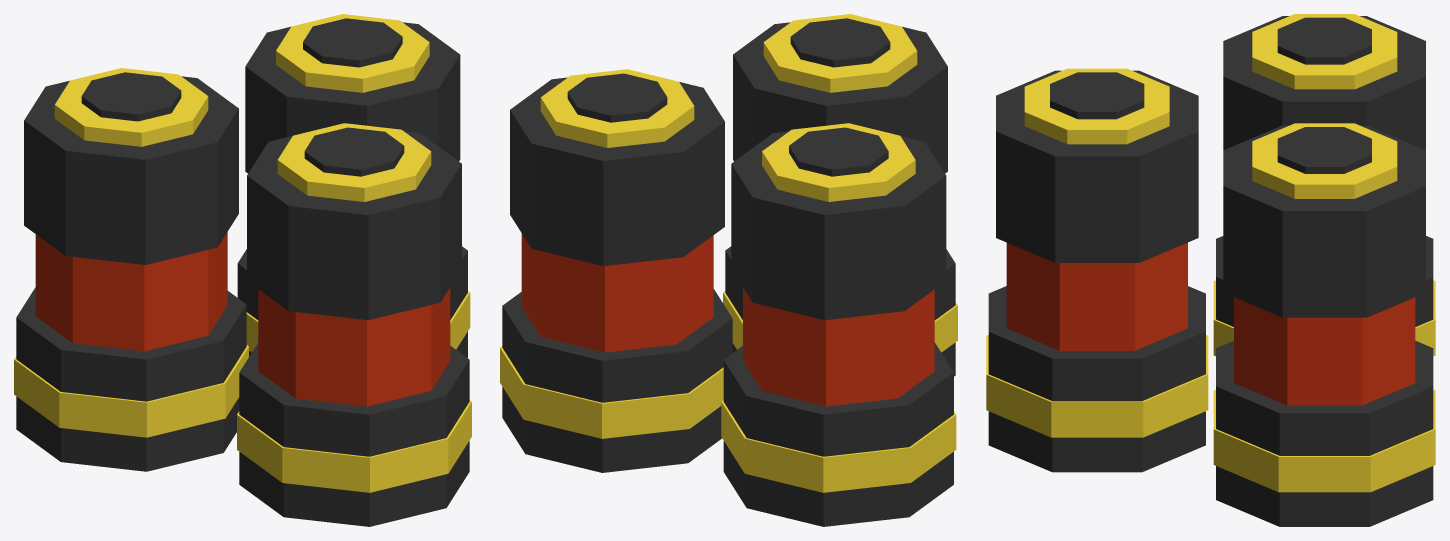
Rendered from ce_ammo_fuelcell_inc_b.obj.
The picture shows the model from 3 angles, left to right: view 1: azimuth 30°, elevation 25°; view 2: azimuth 150°, elevation 25°; view 3: azimuth 270°, elevation 25°; orthographic projection.
Visible parts, largest first — view 1: ce_ammo_fuelcell_inc_b_4, ce_ammo_fuelcell_inc_b_18, ce_ammo_fuelcell_inc_b_3, ce_ammo_fuelcell_inc_b_17, ce_ammo_fuelcell_inc_b_11, ce_ammo_fuelcell_inc_b_16, ce_ammo_fuelcell_inc_b_2, ce_ammo_fuelcell_inc_b_15, ce_ammo_fuelcell_inc_b_1, ce_ammo_fuelcell_inc_b_14, ce_ammo_fuelcell_inc_b_0, ce_ammo_fuelcell_inc_b_5 (+7 smaller); view 2: ce_ammo_fuelcell_inc_b_4, ce_ammo_fuelcell_inc_b_11, ce_ammo_fuelcell_inc_b_10, ce_ammo_fuelcell_inc_b_3, ce_ammo_fuelcell_inc_b_18, ce_ammo_fuelcell_inc_b_2, ce_ammo_fuelcell_inc_b_9, ce_ammo_fuelcell_inc_b_1, ce_ammo_fuelcell_inc_b_8, ce_ammo_fuelcell_inc_b_0, ce_ammo_fuelcell_inc_b_7, ce_ammo_fuelcell_inc_b_19 (+7 smaller); view 3: ce_ammo_fuelcell_inc_b_11, ce_ammo_fuelcell_inc_b_18, ce_ammo_fuelcell_inc_b_10, ce_ammo_fuelcell_inc_b_17, ce_ammo_fuelcell_inc_b_4, ce_ammo_fuelcell_inc_b_16, ce_ammo_fuelcell_inc_b_9, ce_ammo_fuelcell_inc_b_8, ce_ammo_fuelcell_inc_b_15, ce_ammo_fuelcell_inc_b_14, ce_ammo_fuelcell_inc_b_7, ce_ammo_fuelcell_inc_b_19 (+7 smaller).
Part boxes in pixels (bbox=[...]): ce_ammo_fuelcell_inc_b_4: bbox=[24, 76, 238, 264]; ce_ammo_fuelcell_inc_b_18: bbox=[247, 131, 461, 320]; ce_ammo_fuelcell_inc_b_3: bbox=[35, 232, 227, 351]; ce_ammo_fuelcell_inc_b_17: bbox=[258, 287, 450, 406]; ce_ammo_fuelcell_inc_b_11: bbox=[245, 22, 460, 173]; ce_ammo_fuelcell_inc_b_16: bbox=[239, 343, 469, 456]; ce_ammo_fuelcell_inc_b_2: bbox=[16, 287, 246, 401]; ce_ammo_fuelcell_inc_b_15: bbox=[237, 400, 471, 492]; ce_ammo_fuelcell_inc_b_1: bbox=[14, 345, 248, 437]; ce_ammo_fuelcell_inc_b_14: bbox=[239, 441, 469, 526]; ce_ammo_fuelcell_inc_b_0: bbox=[16, 396, 239, 471]; ce_ammo_fuelcell_inc_b_5: bbox=[54, 68, 208, 146]; ce_ammo_fuelcell_inc_b_4: bbox=[731, 131, 946, 320]; ce_ammo_fuelcell_inc_b_11: bbox=[510, 77, 724, 266]; ce_ammo_fuelcell_inc_b_10: bbox=[521, 233, 713, 352]; ce_ammo_fuelcell_inc_b_3: bbox=[743, 288, 934, 406]; ce_ammo_fuelcell_inc_b_18: bbox=[733, 22, 947, 173]; ce_ammo_fuelcell_inc_b_2: bbox=[723, 342, 953, 456]; ce_ammo_fuelcell_inc_b_9: bbox=[502, 289, 732, 402]; ce_ammo_fuelcell_inc_b_1: bbox=[721, 400, 956, 492]; ce_ammo_fuelcell_inc_b_8: bbox=[500, 346, 723, 438]; ce_ammo_fuelcell_inc_b_0: bbox=[723, 441, 953, 526]; ce_ammo_fuelcell_inc_b_7: bbox=[502, 387, 721, 472]; ce_ammo_fuelcell_inc_b_19: bbox=[763, 14, 917, 92]; ce_ammo_fuelcell_inc_b_11: bbox=[1223, 125, 1425, 317]; ce_ammo_fuelcell_inc_b_18: bbox=[996, 70, 1198, 262]; ce_ammo_fuelcell_inc_b_10: bbox=[1234, 297, 1415, 405]; ce_ammo_fuelcell_inc_b_17: bbox=[1006, 242, 1187, 350]; ce_ammo_fuelcell_inc_b_4: bbox=[1223, 16, 1425, 150]; ce_ammo_fuelcell_inc_b_16: bbox=[988, 286, 1205, 401]; ce_ammo_fuelcell_inc_b_9: bbox=[1216, 340, 1433, 455]; ce_ammo_fuelcell_inc_b_8: bbox=[1213, 389, 1435, 492]; ce_ammo_fuelcell_inc_b_15: bbox=[986, 335, 1208, 437]; ce_ammo_fuelcell_inc_b_14: bbox=[988, 411, 1205, 472]; ce_ammo_fuelcell_inc_b_7: bbox=[1216, 466, 1433, 526]; ce_ammo_fuelcell_inc_b_19: bbox=[1024, 68, 1169, 144].
Size of the model in its own units: 0.6128 by 0.47 by 0.5728.
